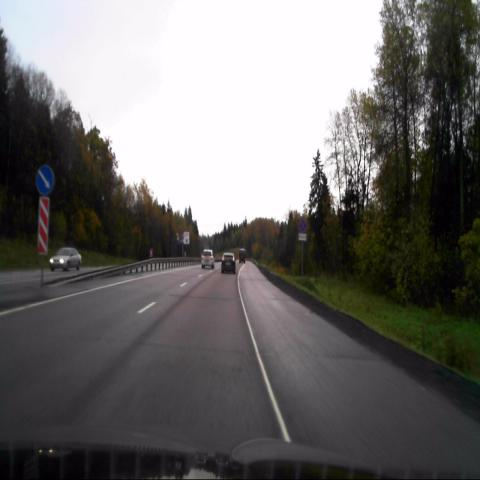4_2_1: (36, 166, 53, 194)
